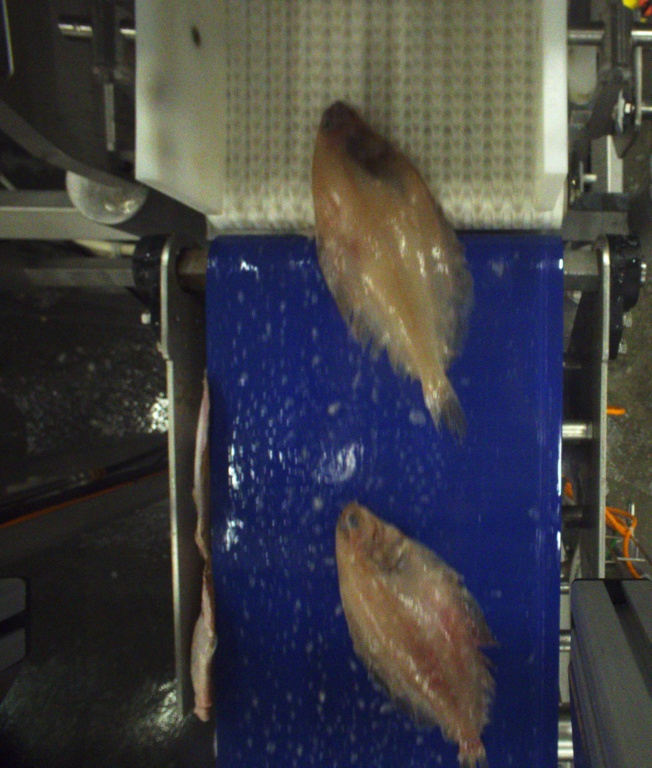WIT: (314, 97, 470, 444)
